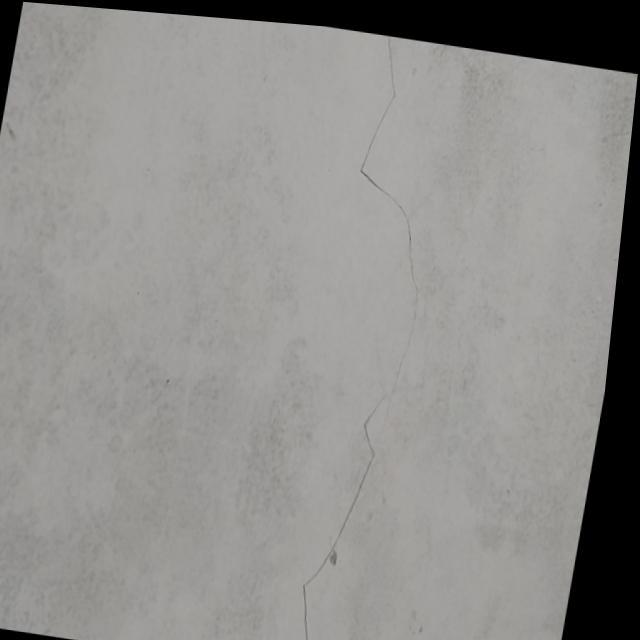Crack: (296, 43, 424, 638)
